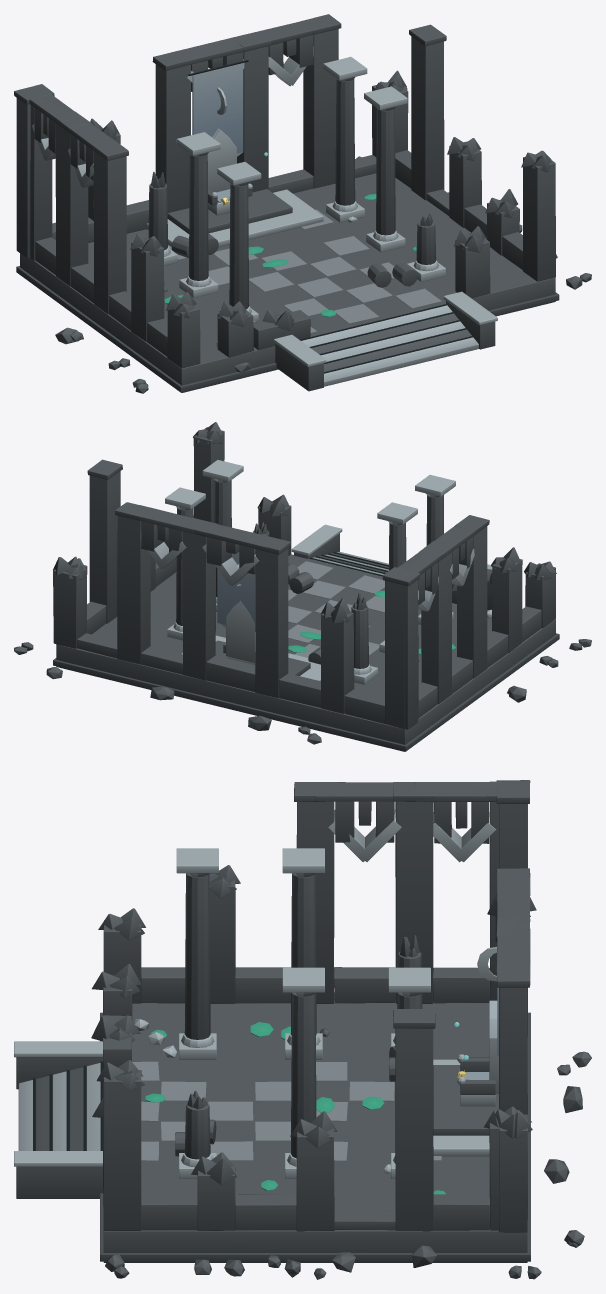
Rendered from ysmoor_throne_hall.glb.
3 renders of one model, top to bottom at view 1: azimuth 30°, elevation 25°; view 2: azimuth 150°, elevation 25°; view 3: azimuth 270°, elevation 25°, orthographic. The views are drawn at different scales.
Parts seen in each view (by area): view 1: ysmoor_throne_hall; view 2: ysmoor_throne_hall; view 3: ysmoor_throne_hall.
Boxes of the visible parts, box(x1,y1,x2,y2) form: ysmoor_throne_hall: box(14, 14, 591, 393); ysmoor_throne_hall: box(14, 422, 591, 751); ysmoor_throne_hall: box(14, 780, 591, 1279).
Size of the model in its own units: 29.72 by 11.32 by 24.53.
3 materials, 3 textured.
